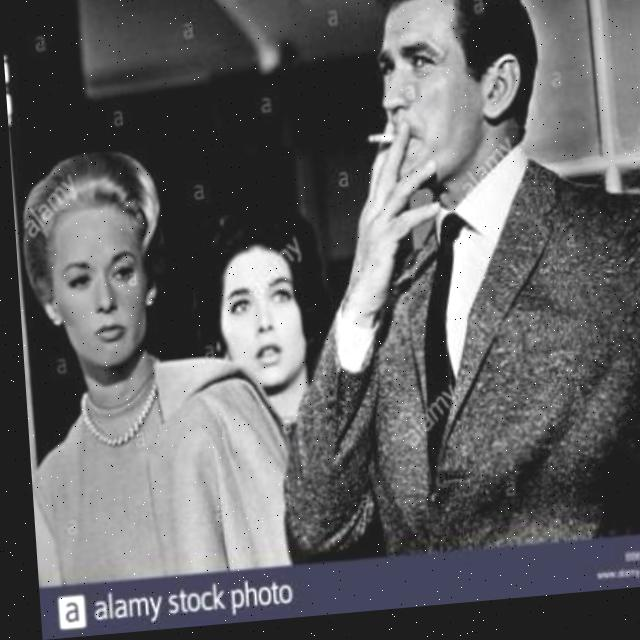cigarette: (366, 138, 394, 155)
